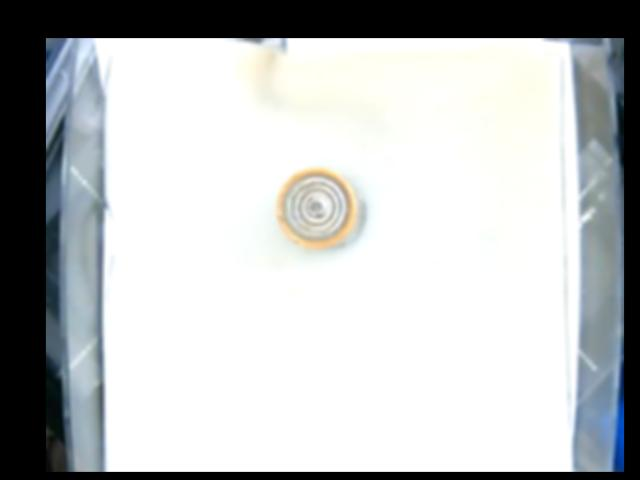Battery: (273, 168, 365, 247)
